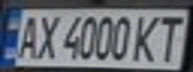0: (112, 11, 136, 62), (78, 12, 100, 61), (97, 12, 118, 62)
4: (60, 11, 84, 61)
A: (12, 12, 45, 61)
K: (130, 11, 163, 63)
T: (151, 11, 187, 62)
X: (33, 11, 60, 61)
